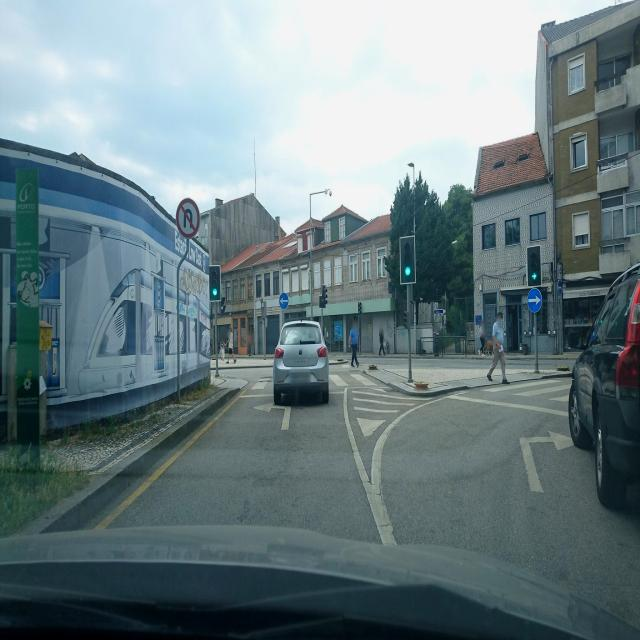car: (567, 255, 640, 510), (272, 317, 330, 405)
